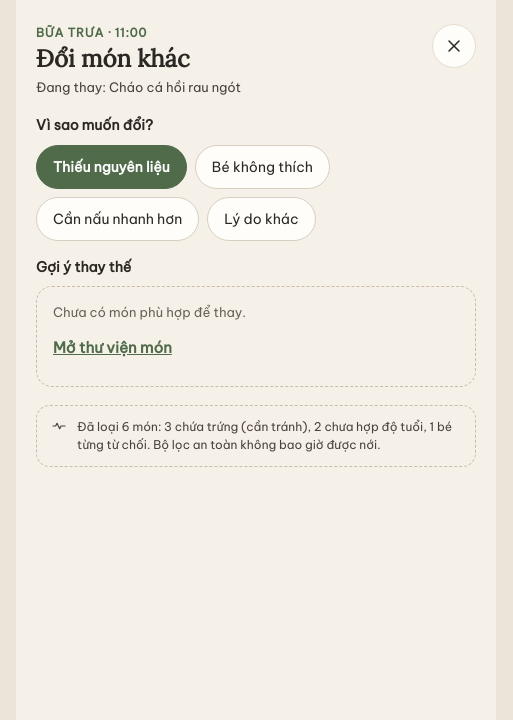
it: Swap (S02) › TC-SWP-002 says when nothing is quicker than the current dish
Click the button "Cần nấu nhanh hơn".
click(118, 219)  # box x1=36 y1=197 x2=199 y2=241
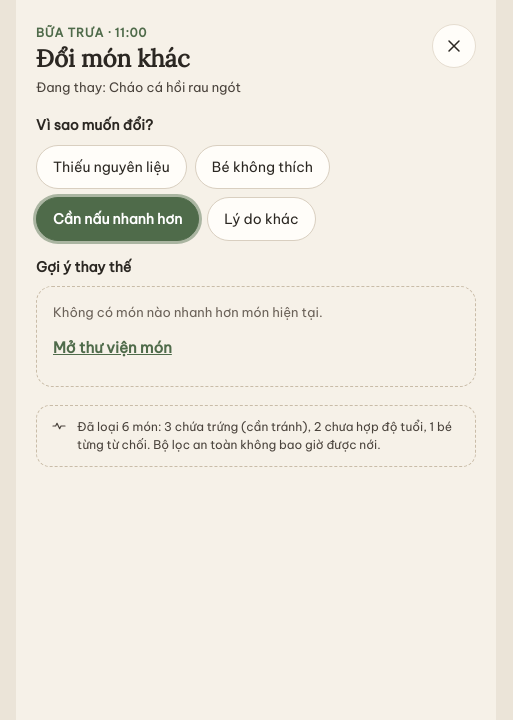
expect the text "Không có món nào nhanh hơn món hiện tại." is shown: met, box x1=53 y1=304 x2=323 y2=320
